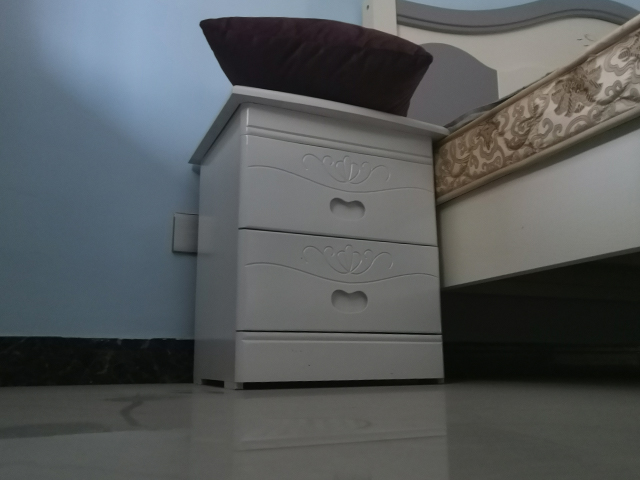bed: (358, 1, 640, 304)
cabinet: (187, 83, 451, 392)
